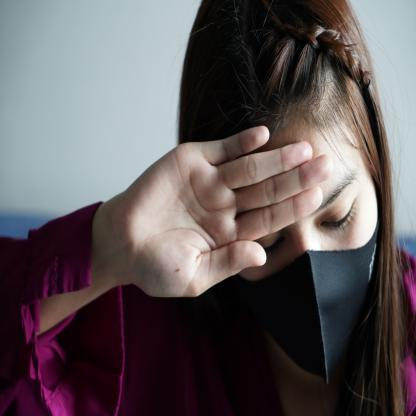Sick: (45, 125, 352, 304)
